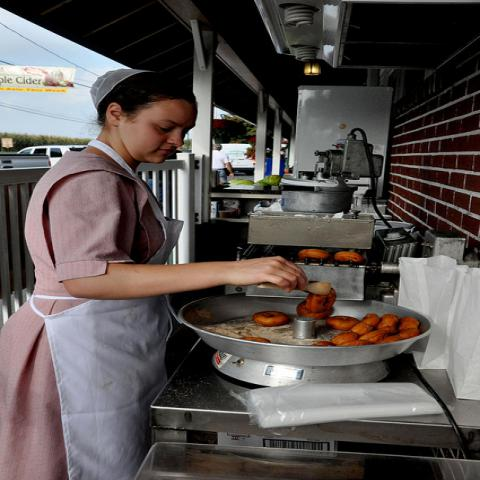car: (212, 142, 258, 175), (19, 145, 83, 166)
